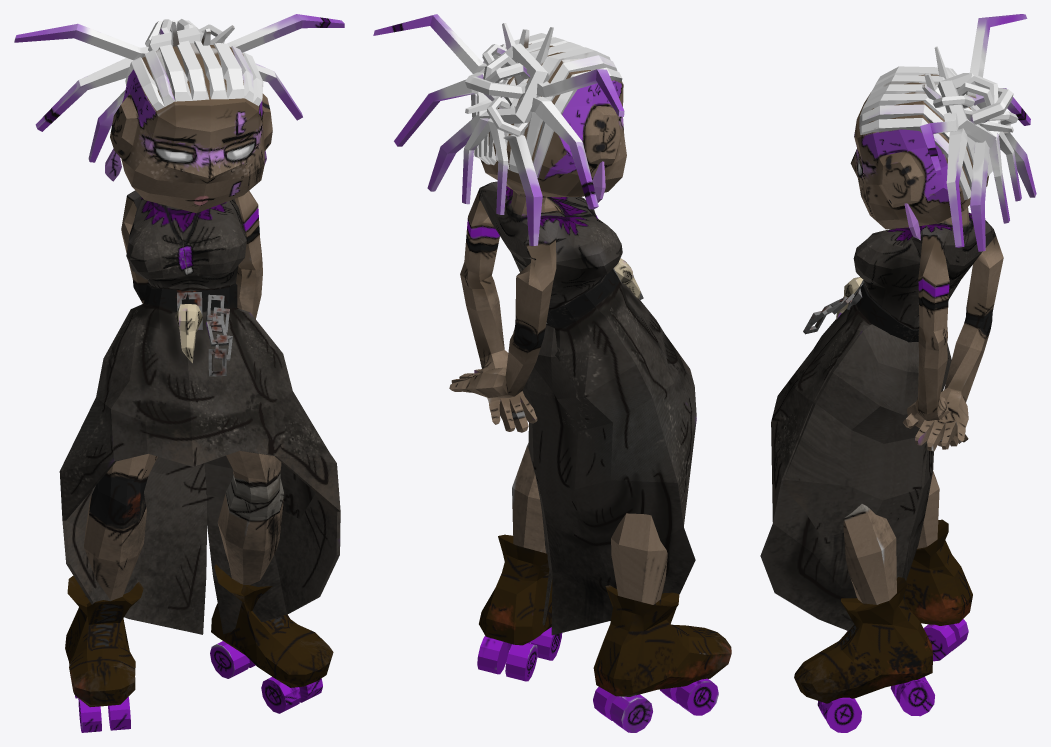
Rendered from bruja_000044.obj.
The picture shows the model from 3 angles, left to right: view 1: azimuth 30°, elevation 25°; view 2: azimuth 150°, elevation 25°; view 3: azimuth 270°, elevation 25°; orthographic projection. The views are drawn at different scales.
Visible parts, largest first — view 1: Bruja_Plane.001; view 2: Bruja_Plane.001; view 3: Bruja_Plane.001.
Boxes of the visible parts, left/top/right/bottom form: Bruja_Plane.001: left=14, top=14, right=344, bottom=732; Bruja_Plane.001: left=373, top=14, right=731, bottom=732; Bruja_Plane.001: left=760, top=14, right=1036, bottom=732.
Size of the model in its own units: 7.76 by 16.03 by 6.19.
